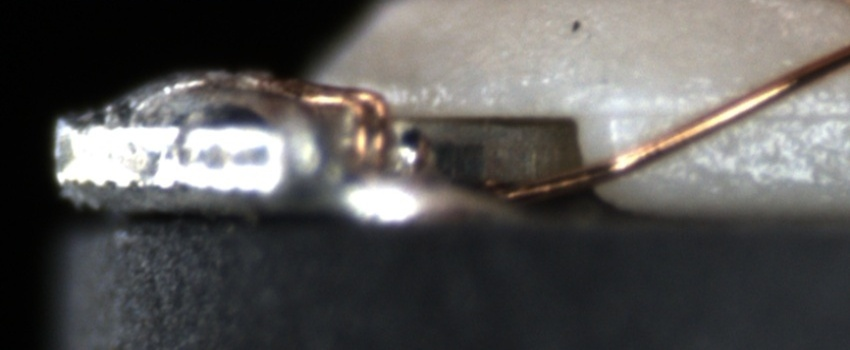DL: (605, 86, 849, 147)
TE: (259, 72, 399, 171)
